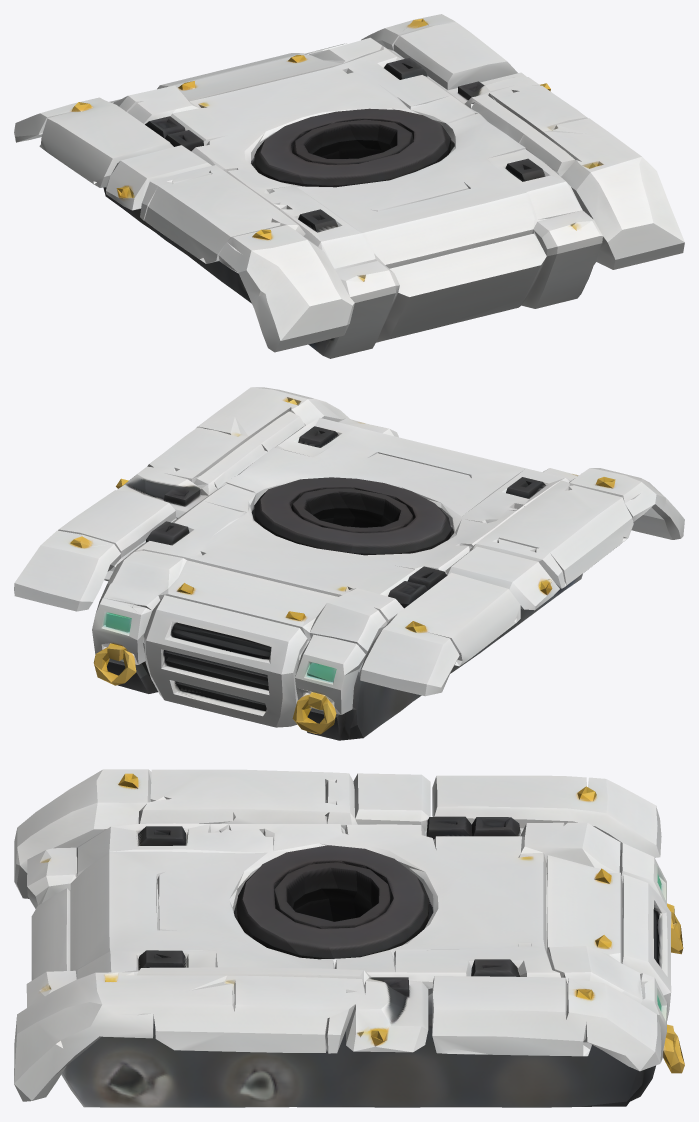
Rendered from heavy_tracks.glb.
3 views of the same model, one above another, from view 1: azimuth 30°, elevation 25°; view 2: azimuth 150°, elevation 25°; view 3: azimuth 270°, elevation 25° (orthographic). The views are drawn at different scales.
Visible parts, largest first — view 1: Hull; view 2: Hull; view 3: Hull.
Part boxes in pixels (x1,y1,x2,y2): Hull: (14, 14, 684, 358); Hull: (14, 387, 684, 740); Hull: (14, 769, 684, 1107).
Size of the model in its own units: 2.07 by 0.5726 by 2.27.
Materials: 1 (1 with a texture image).
